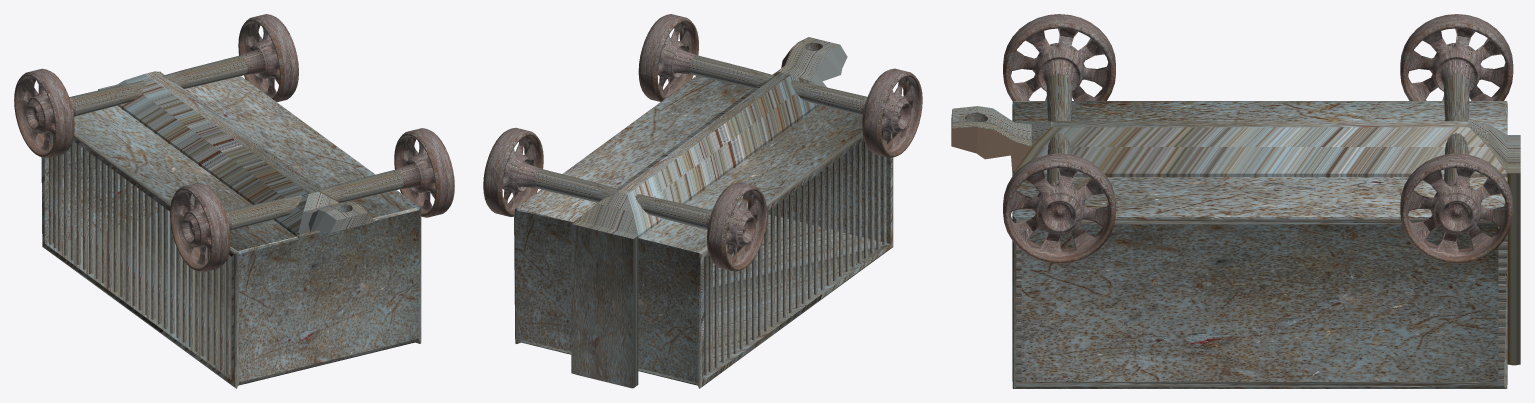
File: Wagon one sided.FBX
The picture shows the model from 3 angles, left to right: view 1: azimuth 30°, elevation 25°; view 2: azimuth 150°, elevation 25°; view 3: azimuth 270°, elevation 25°; orthographic projection. The views are drawn at different scales.
Visible parts, largest first — view 1: Wagon 021; view 2: Wagon 021; view 3: Wagon 021.
Boxes of the visible parts, left/top/right/bottom form: Wagon 021: left=14, top=14, right=454, bottom=388; Wagon 021: left=483, top=14, right=922, bottom=388; Wagon 021: left=951, top=14, right=1520, bottom=388.
Bounding box in the file's own units: 66.55 × 52.53 × 103.
